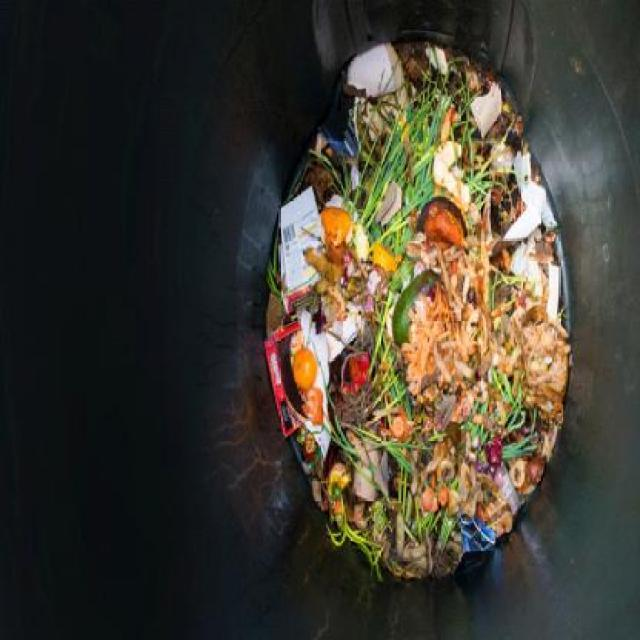garbage: (254, 39, 576, 579)
